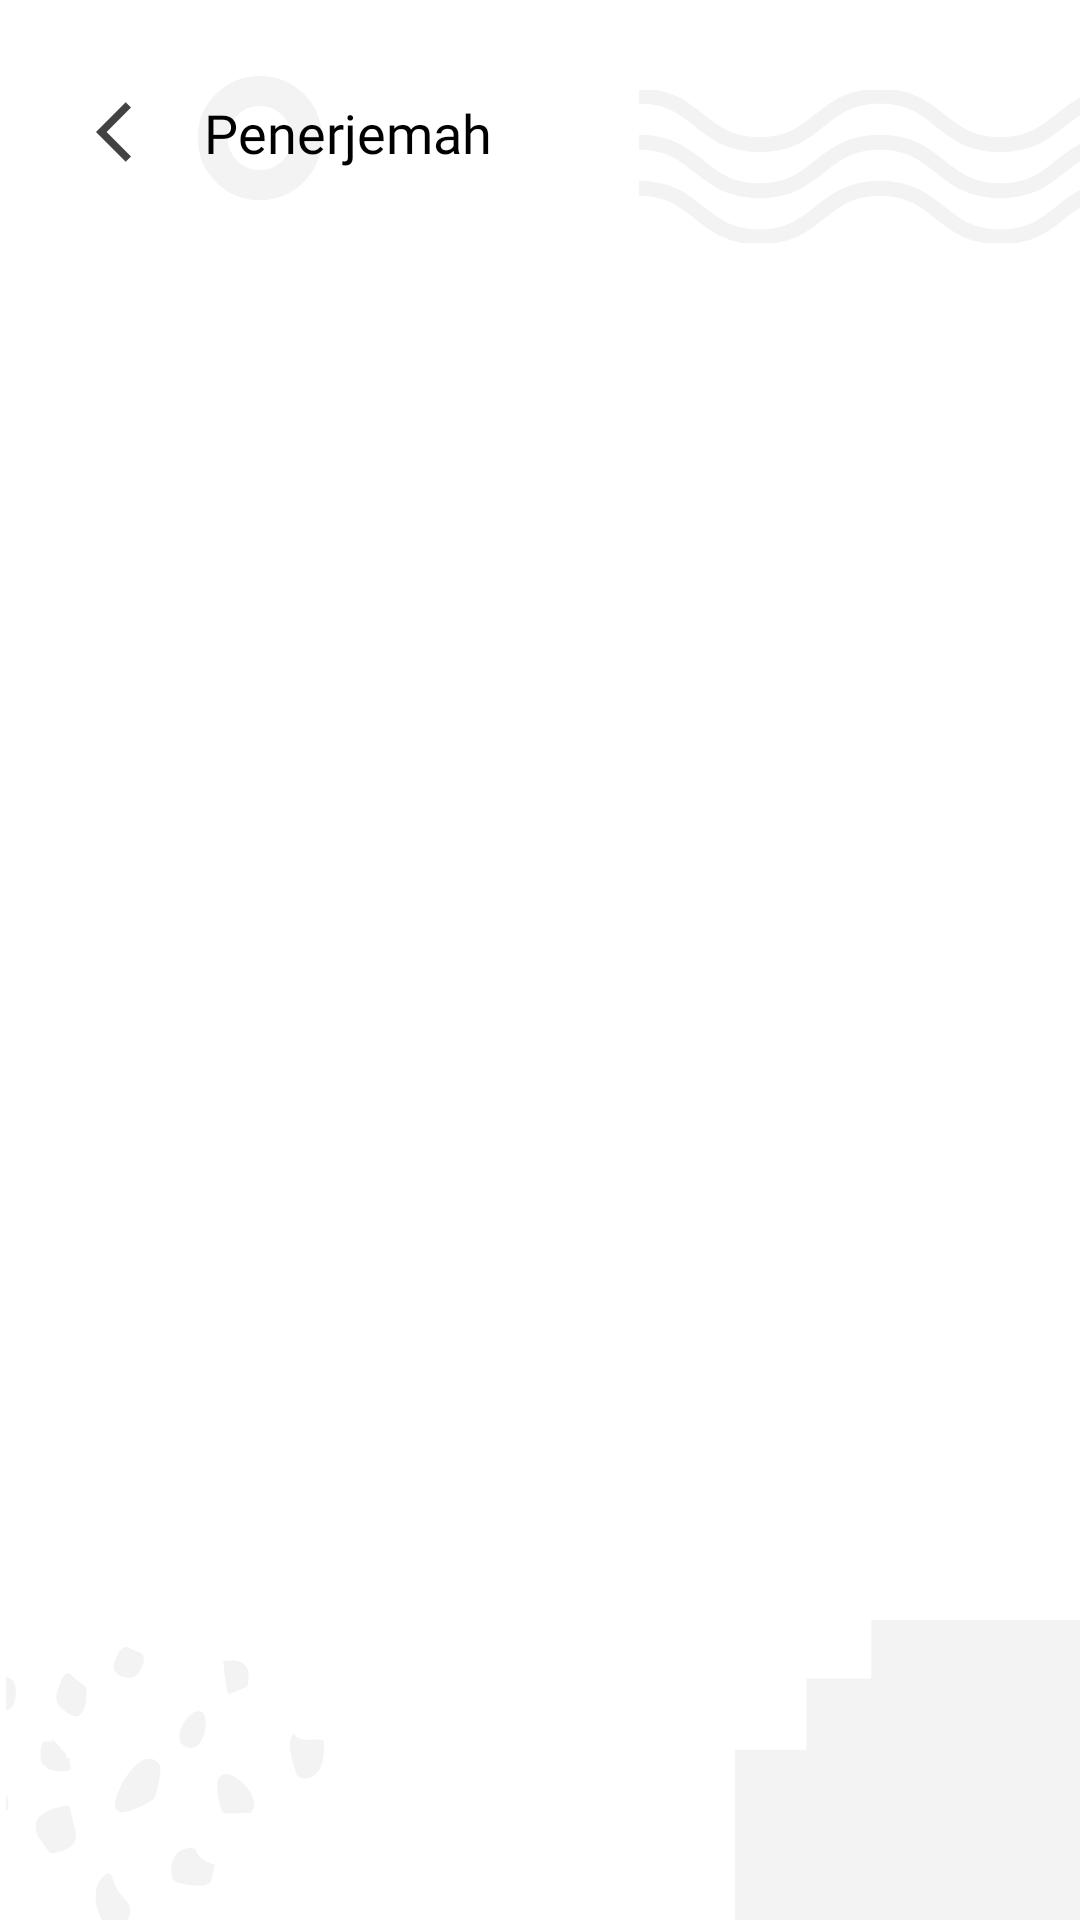

Point at icon controls on the screen. Image size 1080w x 1920h, points as point (x, y).
back: point (113, 132)
